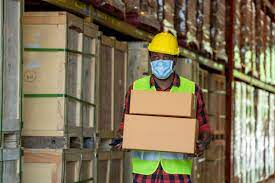hard-hat: (146, 31, 181, 58)
